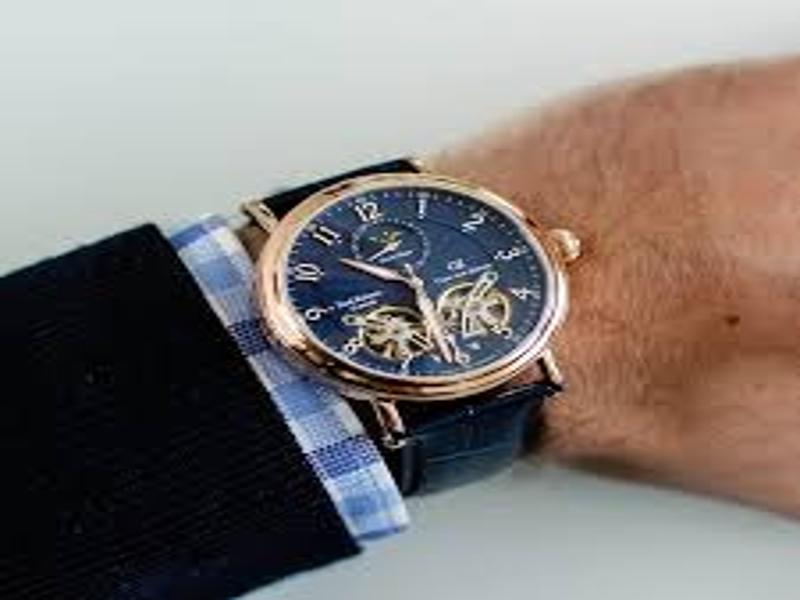watch: (241, 148, 584, 493)
